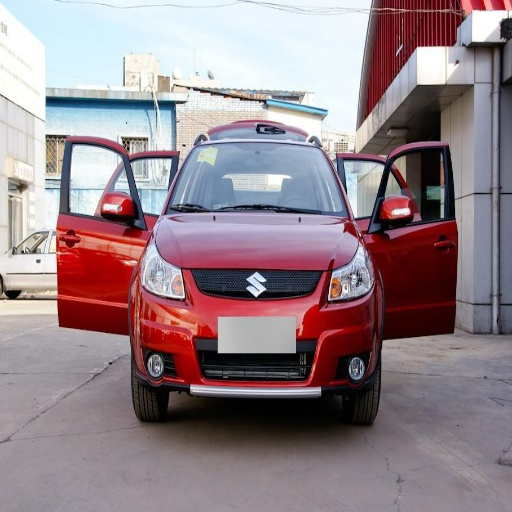front_bumper: (139, 268, 376, 396)
front_left_light: (324, 257, 375, 306)
front_right_door: (69, 142, 131, 221)
front_right_light: (142, 252, 190, 304)
hood: (156, 212, 358, 268)
